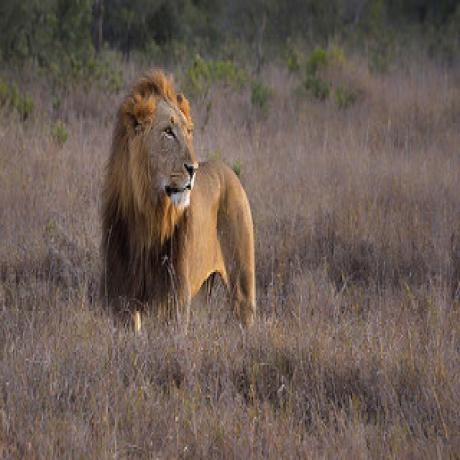Lion: (97, 67, 257, 339)
